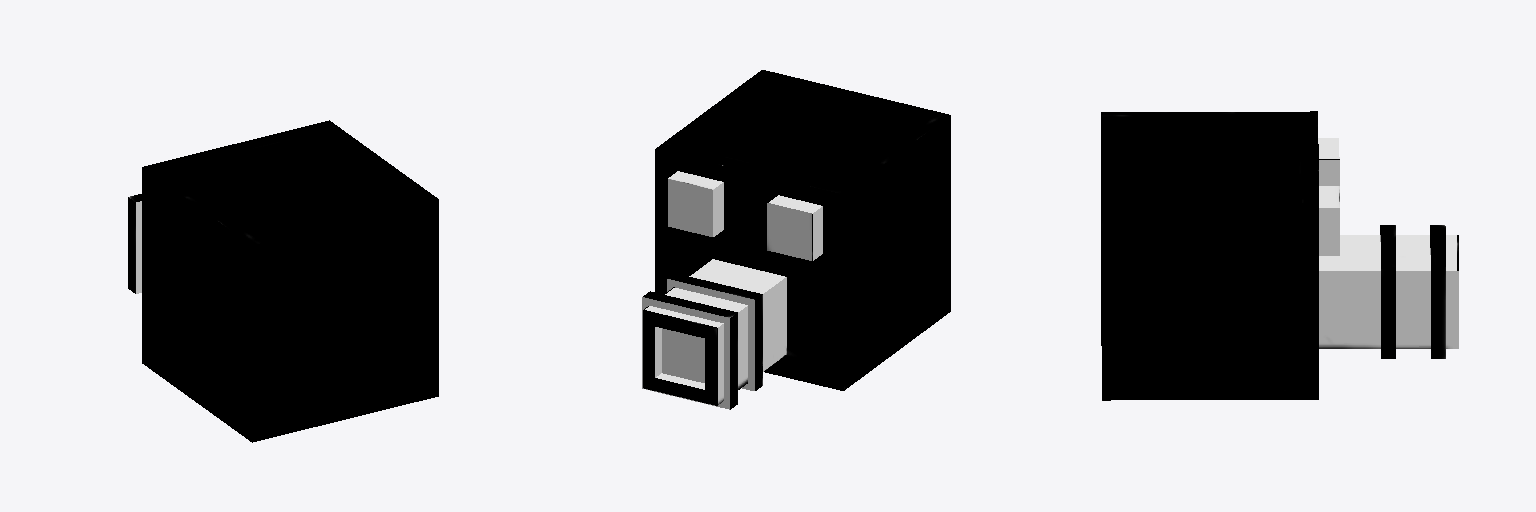
3 renders of one model, left to right at view 1: azimuth 30°, elevation 25°; view 2: azimuth 150°, elevation 25°; view 3: azimuth 270°, elevation 25°, orthographic.
Visible parts, largest first — view 1: 立方体.002; view 2: 立方体.002; view 3: 立方体.002.
Boxes of the visible parts, x1,y1,x2,y2 form: 立方体.002: [128, 120, 438, 442]; 立方体.002: [642, 70, 950, 409]; 立方体.002: [1101, 111, 1458, 400].
Bounding box in the file's own units: 1.79 × 1.78 × 2.94.
Materials: 1 (1 with a texture image).